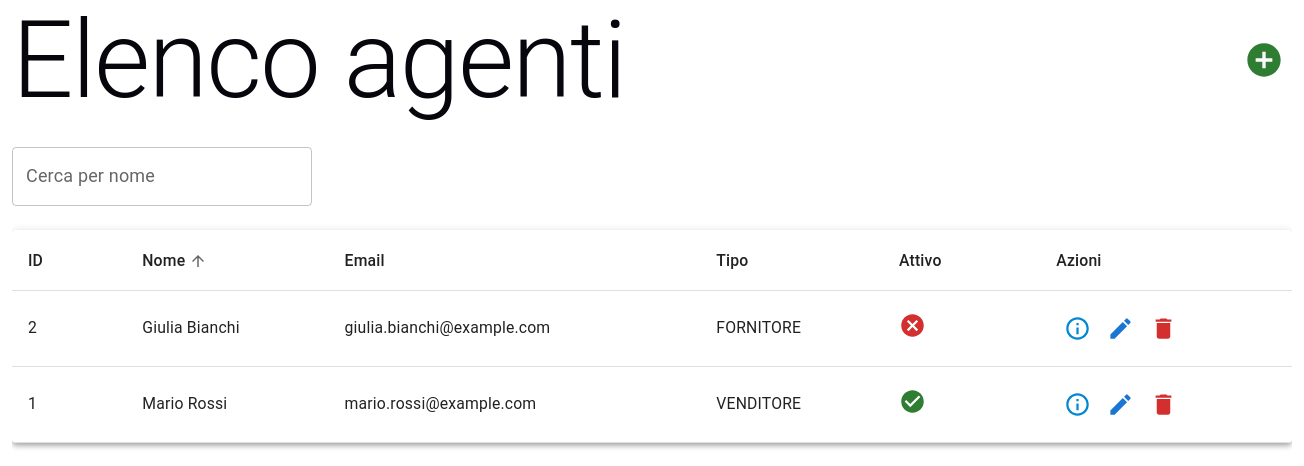
it: Agentes › lista os agentes recebidos da API e permite filtrar por nome
Expected: the text "Mario Rossi" is shown, [126,367,329,443]
Expected: the text "Giulia Bianchi" is shown, [126,291,329,367]
Type "giulia" into the field labelled "Cerca per nome" at (162, 176), box [12,147,312,206]
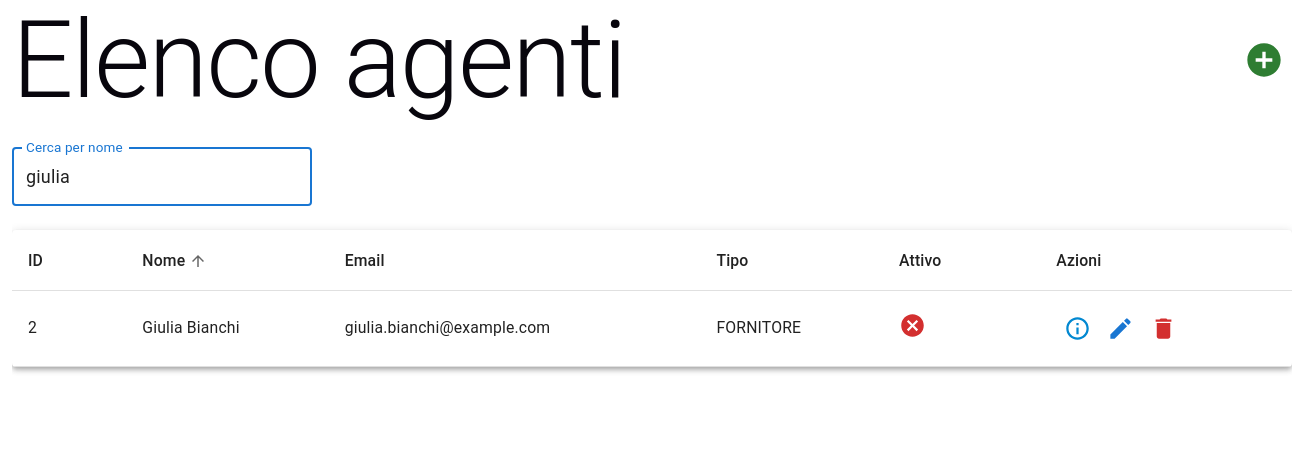
Expected: the text "Giulia Bianchi" is shown, [126,291,329,367]
Result: the text "Mario Rossi" is gone
